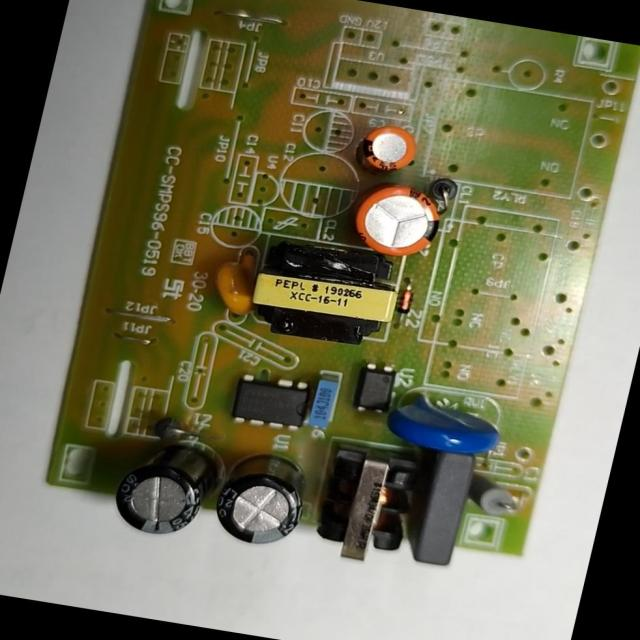Cap1: (348, 177, 446, 261)
Cap2: (358, 121, 422, 176)
Cap3: (207, 444, 316, 554)
Cap4: (108, 430, 229, 540)
MOSFET: (226, 371, 312, 433)
Mov: (380, 387, 510, 459)
Resistor: (463, 472, 521, 520)
Transformer: (243, 234, 404, 351), (306, 438, 429, 572)
